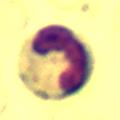monocyte: (17, 24, 98, 100)
